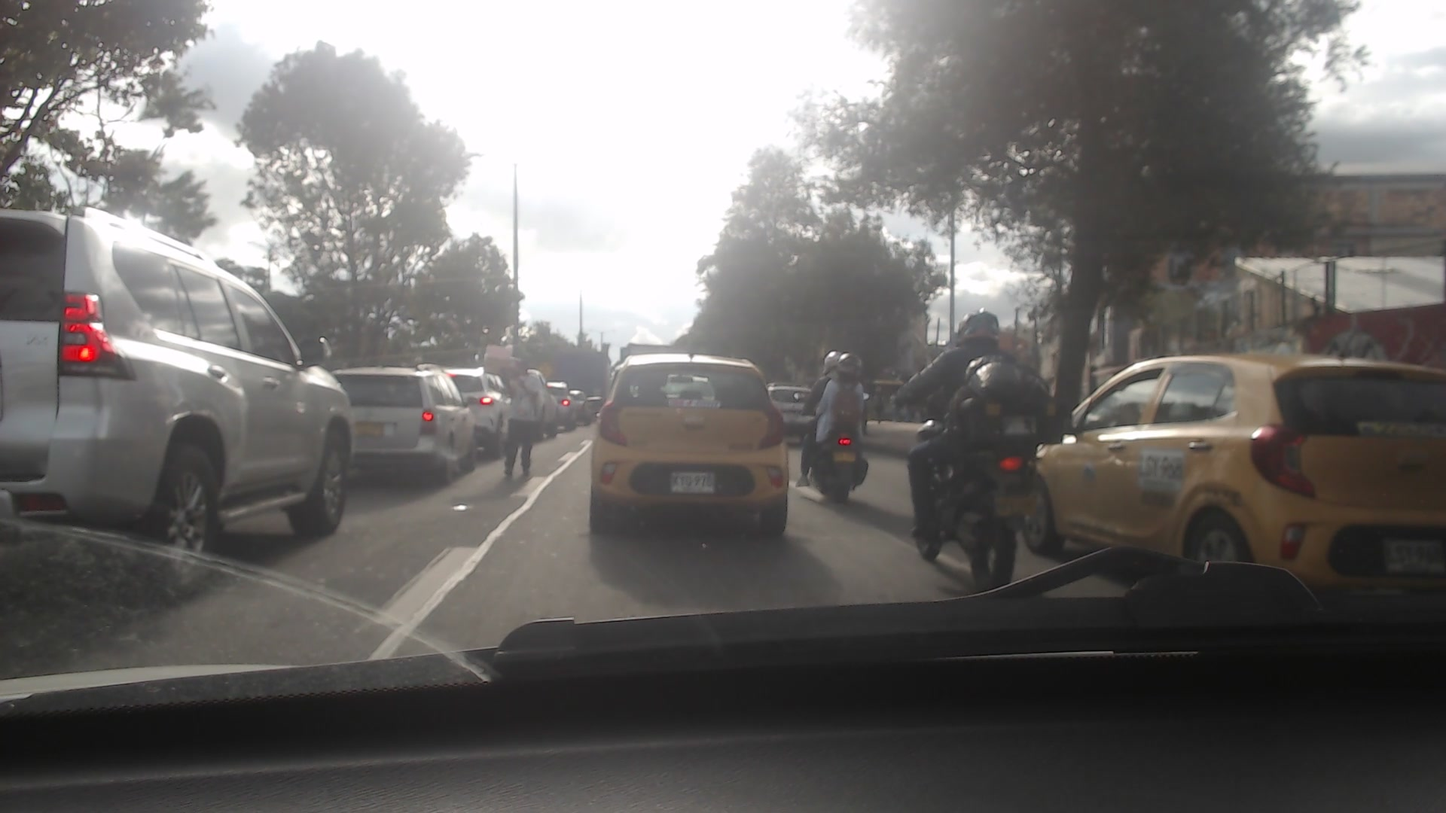car: (0, 205, 358, 597), (1028, 359, 1441, 590), (588, 349, 797, 539), (327, 365, 485, 473)
motorcycle: (884, 421, 1045, 592), (798, 423, 875, 503)
person: (919, 304, 1022, 502), (486, 346, 542, 485), (810, 349, 868, 450)
